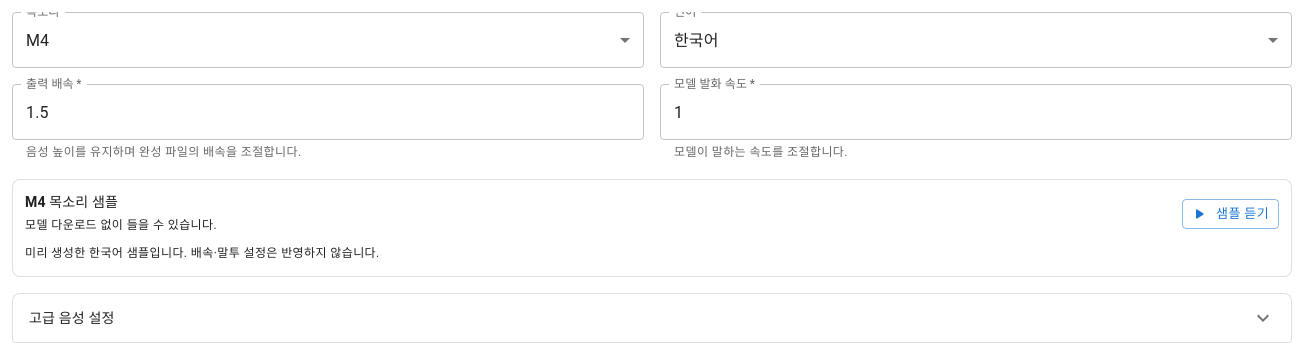
Test: voice samples › plays the selected static sample without requiring an installed model or input
Step 1. Click the button "샘플 듣기" → (1231, 214), box [1182,198,1279,229]
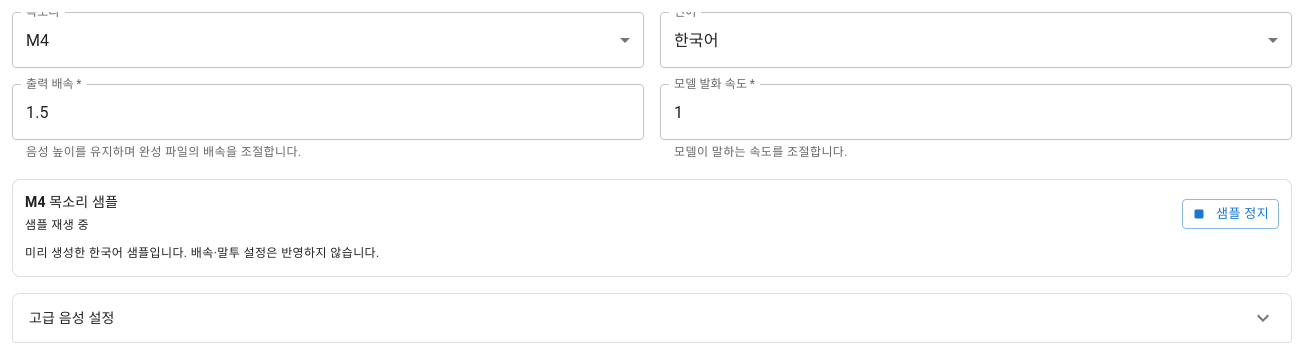
Check: the text "배속·말투 설정은 반영하지 않습니다" is shown, box [25,246,380,260]
Check: the text "샘플 재생 중" is shown, box [25,218,89,232]
